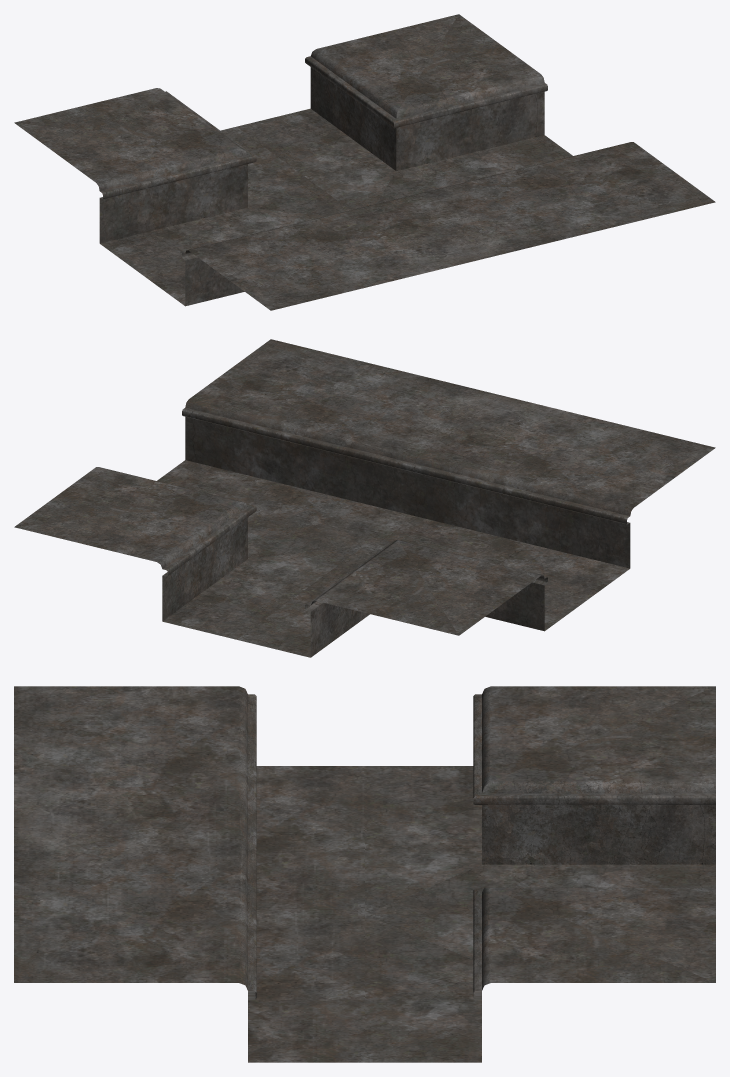
Rendered from Basement_Corridor_A_Floor_Vent_T_Junction.glb.
3 renders of one model, top to bottom at view 1: azimuth 30°, elevation 25°; view 2: azimuth 150°, elevation 25°; view 3: azimuth 270°, elevation 25°, orthographic. The views are drawn at different scales.
Visible parts, largest first — view 1: Basement_Corridor_A_Floor_Vent_T_Junction; view 2: Basement_Corridor_A_Floor_Vent_T_Junction; view 3: Basement_Corridor_A_Floor_Vent_T_Junction.
Boxes of the visible parts, <box> form: Basement_Corridor_A_Floor_Vent_T_Junction: <box>14,14,715,310</box>; Basement_Corridor_A_Floor_Vent_T_Junction: <box>14,339,715,657</box>; Basement_Corridor_A_Floor_Vent_T_Junction: <box>14,686,715,1062</box>.
Size of the model in its own units: 4 by 0.5 by 4.
1 material, 1 textured.
